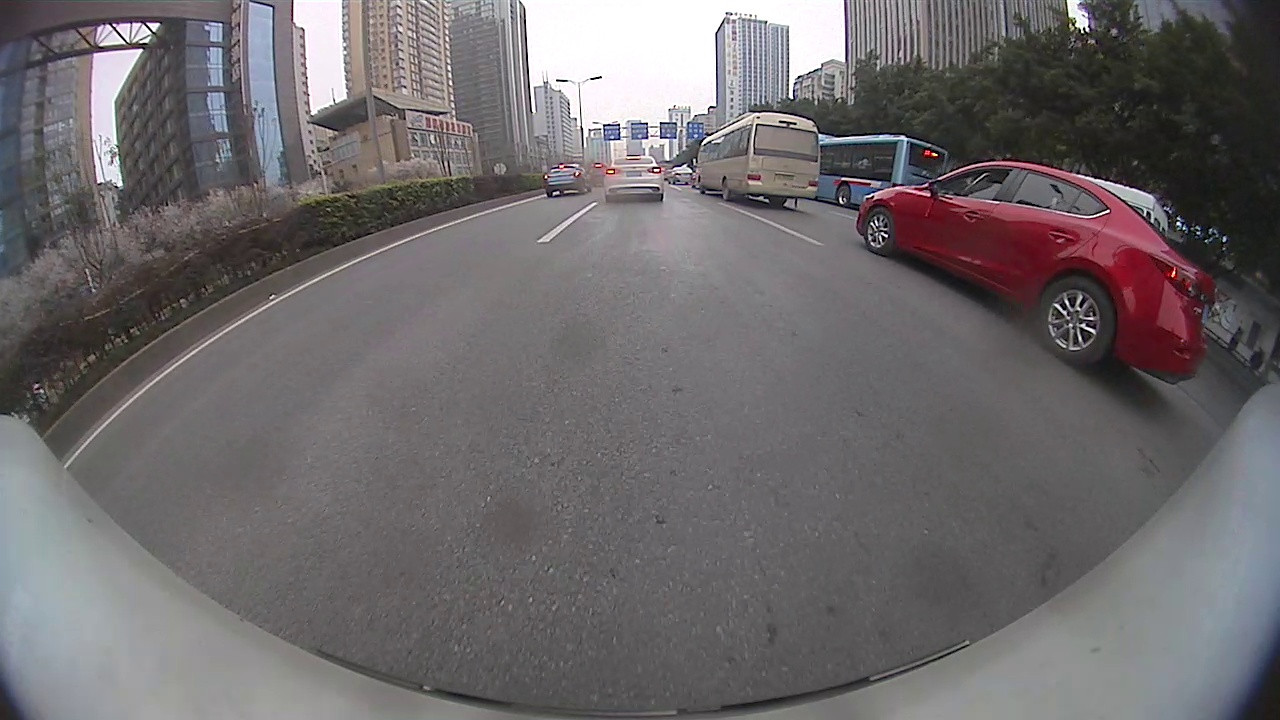bus: (698, 111, 819, 204), (822, 132, 949, 206)
car: (856, 161, 1215, 385), (1085, 177, 1171, 237), (604, 154, 665, 203), (543, 162, 590, 197)
front: (862, 206, 897, 257)
rear: (1037, 276, 1117, 367), (835, 186, 849, 206)
